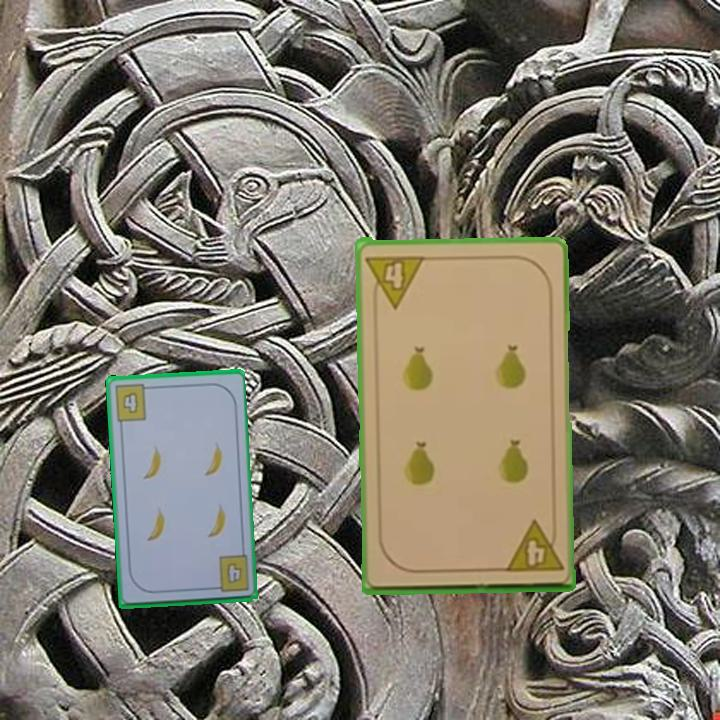4b: (208, 552, 252, 595), (111, 381, 154, 424)
4p: (363, 251, 428, 310), (501, 517, 566, 575)
